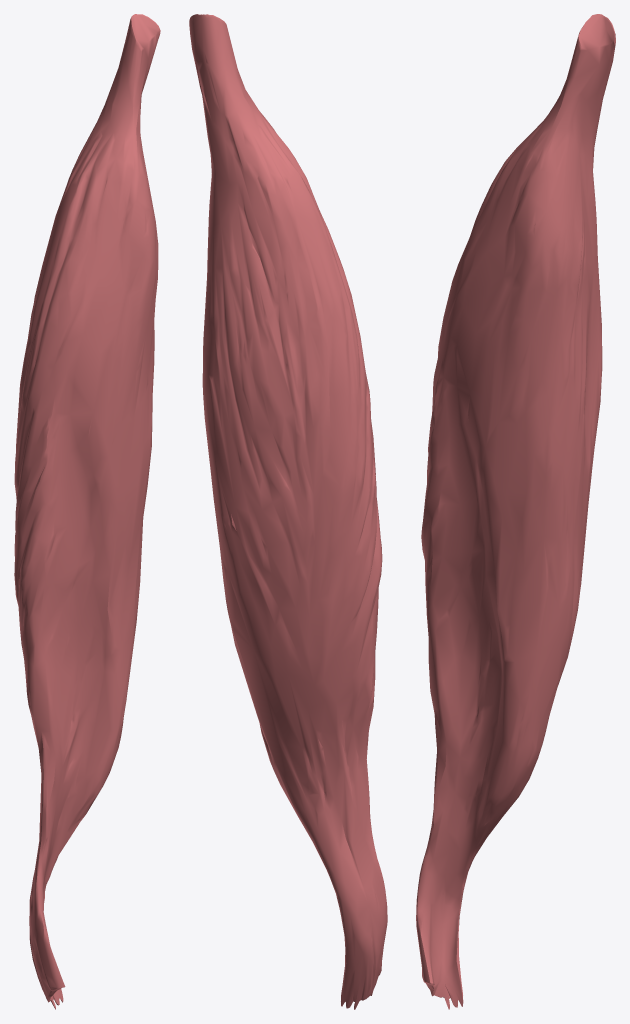
The picture shows the model from 3 angles, left to right: view 1: azimuth 30°, elevation 25°; view 2: azimuth 150°, elevation 25°; view 3: azimuth 330°, elevation 25°; orthographic projection. The views are drawn at different scales.
Visible parts, largest first — view 1: FJ1395; view 2: FJ1395; view 3: FJ1395.
Part boxes in pixels (x1,y1,x2,y2): FJ1395: [14, 14, 160, 1009]; FJ1395: [189, 14, 387, 1009]; FJ1395: [416, 14, 615, 1009].
Size of the model in its own units: 0.0776 by 0.4345 by 0.0536.
